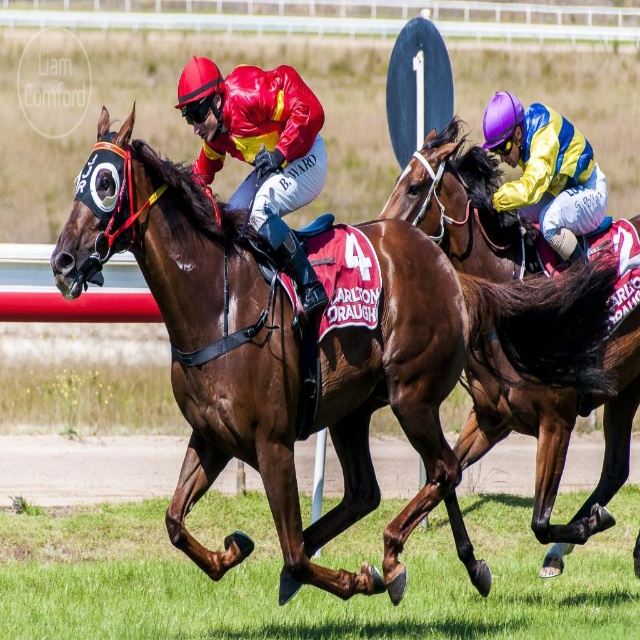Horse: (50, 100, 622, 607), (375, 106, 640, 598)
